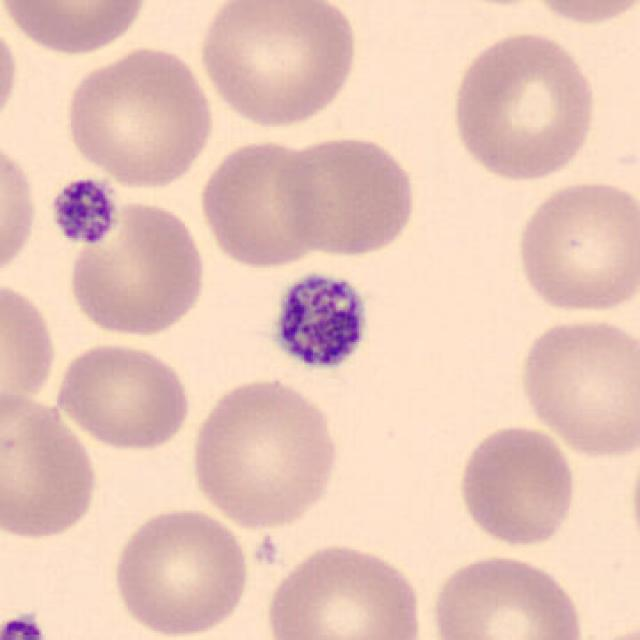Platelets: (266, 266, 372, 376), (46, 174, 121, 247), (0, 612, 48, 640)
RBC: (185, 372, 343, 531), (446, 27, 601, 185), (60, 42, 217, 190), (193, 0, 362, 130), (64, 194, 210, 340), (109, 502, 252, 638), (270, 131, 420, 259), (194, 134, 327, 272), (514, 312, 638, 460), (510, 176, 638, 318), (261, 537, 426, 640), (454, 421, 580, 550), (52, 338, 194, 452), (0, 388, 101, 543), (426, 550, 588, 640), (0, 0, 154, 56), (0, 273, 60, 416), (0, 134, 41, 286), (522, 0, 640, 28), (0, 14, 21, 134), (574, 619, 638, 640)
